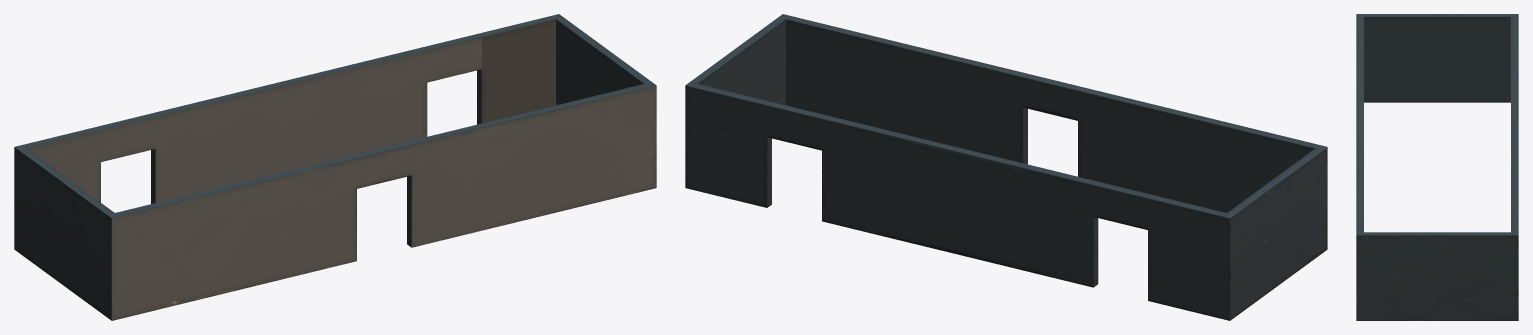
Rendered from StartHouseWallsDarkerTestLighterBakedLIght.fbx.
The picture shows the model from 3 angles, left to right: view 1: azimuth 30°, elevation 25°; view 2: azimuth 150°, elevation 25°; view 3: azimuth 270°, elevation 25°; orthographic projection. The views are drawn at different scales.
Parts seen in each view (by area): view 1: Low_House_Walls_Retry; view 2: Low_House_Walls_Retry; view 3: Low_House_Walls_Retry.
Boxes of the visible parts, x1,y1,x2,y2 form: Low_House_Walls_Retry: (14, 14, 656, 320); Low_House_Walls_Retry: (685, 14, 1327, 320); Low_House_Walls_Retry: (1356, 14, 1518, 320).
Size of the model in its own units: 2000 by 360 by 621.
Materials: 1 (1 with a texture image).
